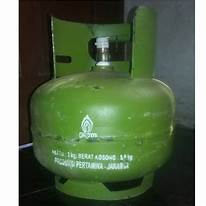gas_ijo: (31, 6, 175, 202)
